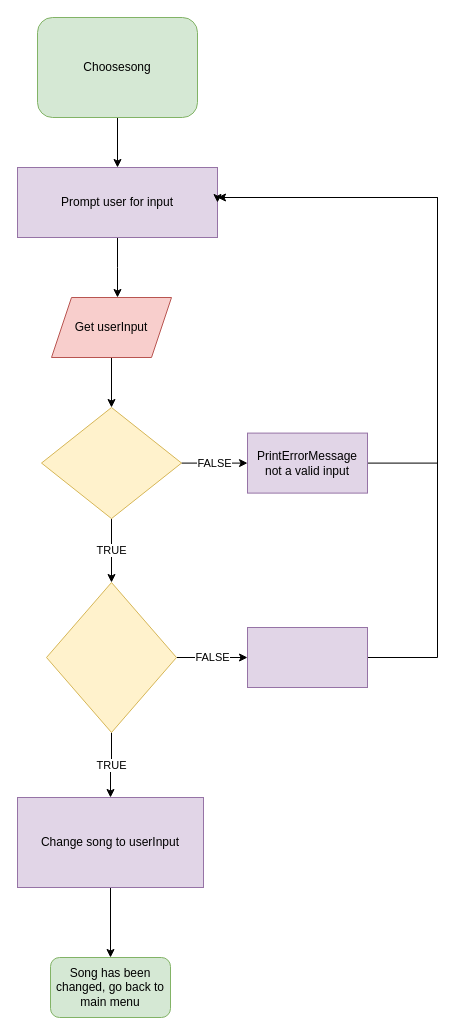
This 463x1035 diagram has some shape labels left out. Each missing label, with the centre of its shape:
check if input is int: (111,462)
Is userinput in song list?: (111,657)
PrintErrorMessage value outside range of song list: (307,657)
